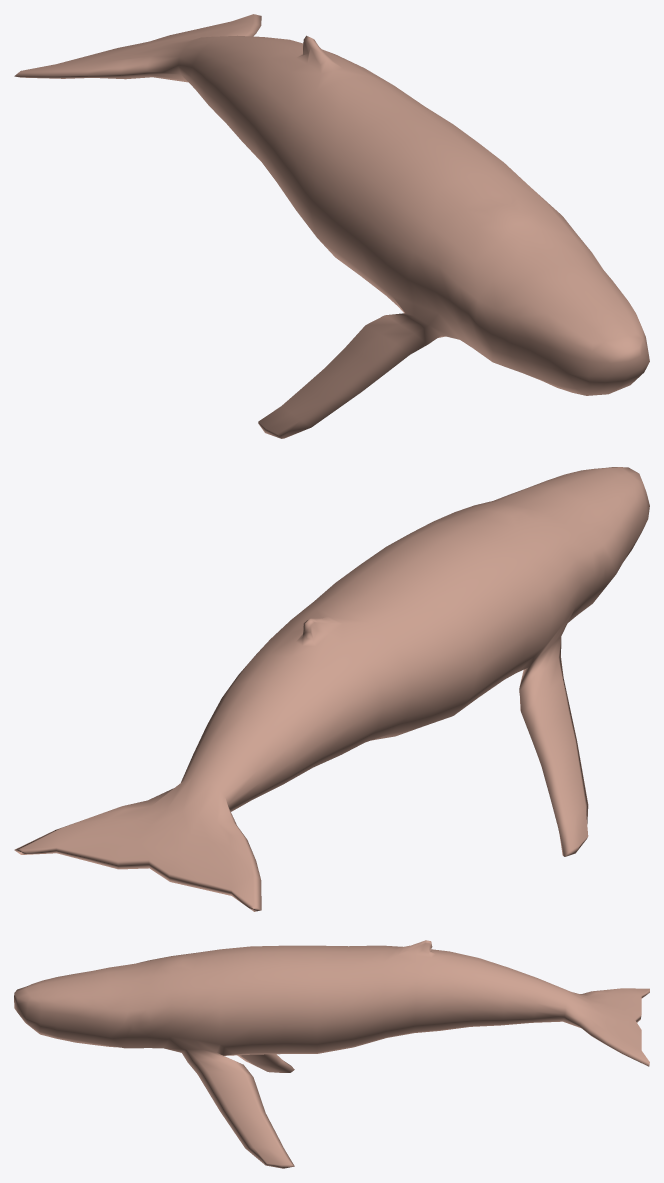
File: Whale.fbx
3 renders of one model, top to bottom at view 1: azimuth 30°, elevation 25°; view 2: azimuth 150°, elevation 25°; view 3: azimuth 270°, elevation 25°, orthographic. The views are drawn at different scales.
Visible parts, largest first — view 1: Whale:whale; view 2: Whale:whale; view 3: Whale:whale.
Part boxes in pixels (box(x1,y1,x2,y2)): Whale:whale: box(14, 14, 649, 438); Whale:whale: box(14, 467, 649, 911); Whale:whale: box(14, 940, 649, 1168).
Size of the model in its own units: 885 by 748 by 2400.
